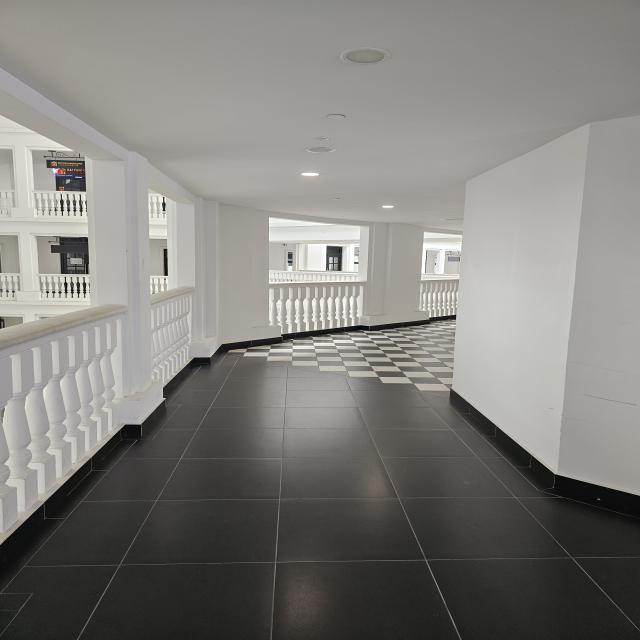footpath: (129, 340, 456, 624)
